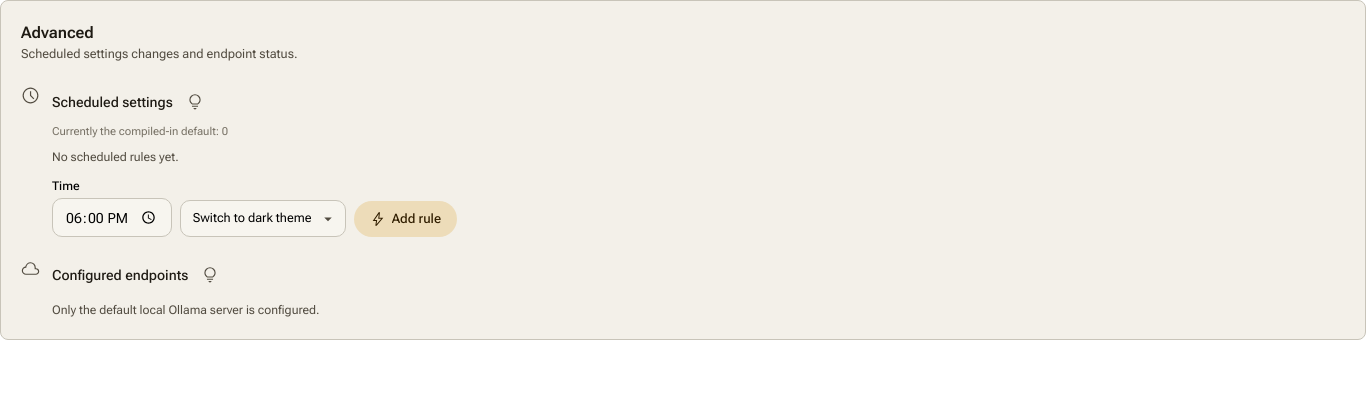
Scenario: AdvancedCard: scheduled settings › adds a rule with the picked time and action, and it appears in the real list
This screenshot has width=1366, height=393.
Expected: the text "No scheduled rules yet." is shown, [52,150,179,164]
Replace the text in the time field labelled "Time" with "07:30" at [112, 218], box [65,207,159,228]
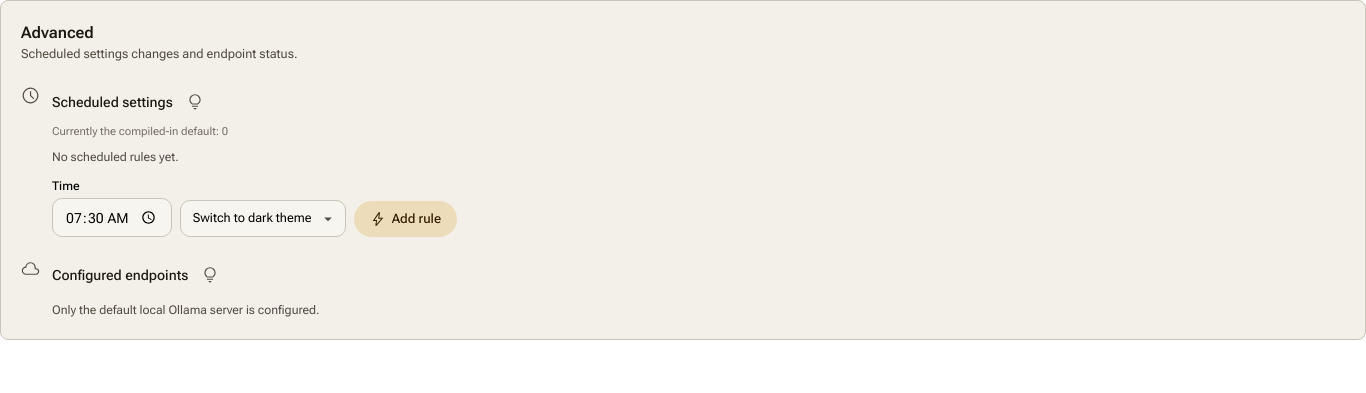
Select "Turn School mode on" in the dropdown named "Action" at [263, 219], box [181,201,345,236]
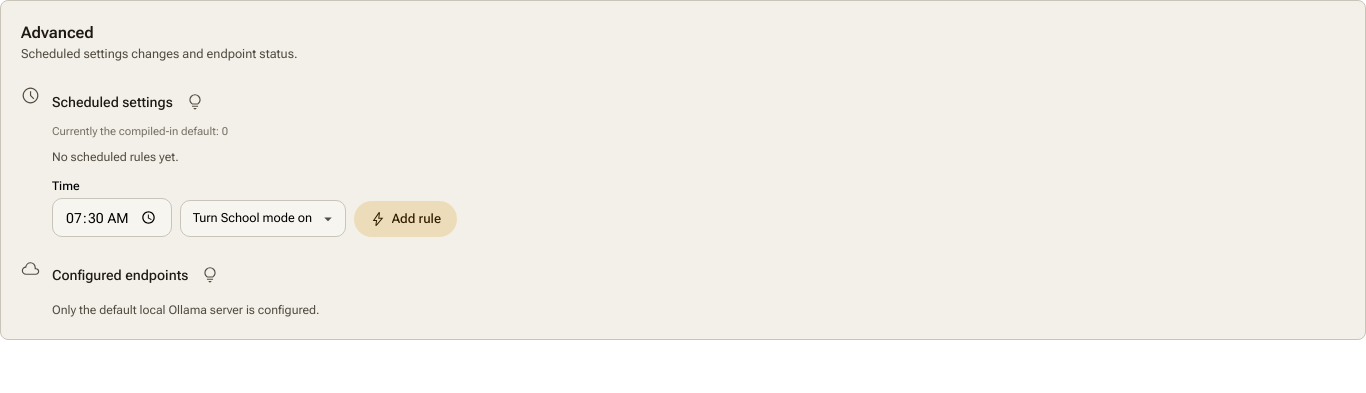
Click the button "Add rule" at [405, 219], box [354,201,457,237]
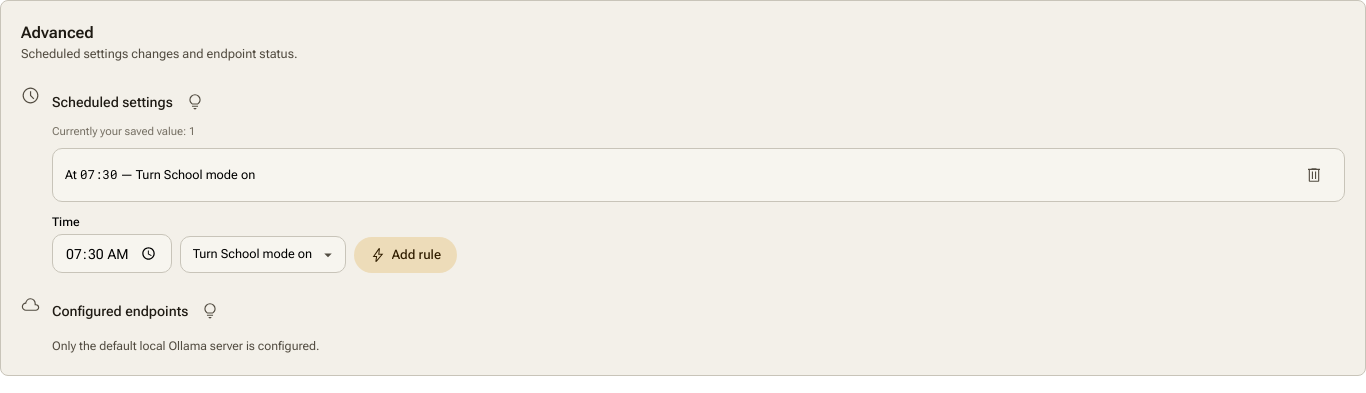
Expected: the text "No scheduled rules yet." is gone
Expected: the list item "07:30" is shown, [80,166,117,182]
Expected: the list item "07:30" shows "Turn School mode on", [136,167,255,182]
